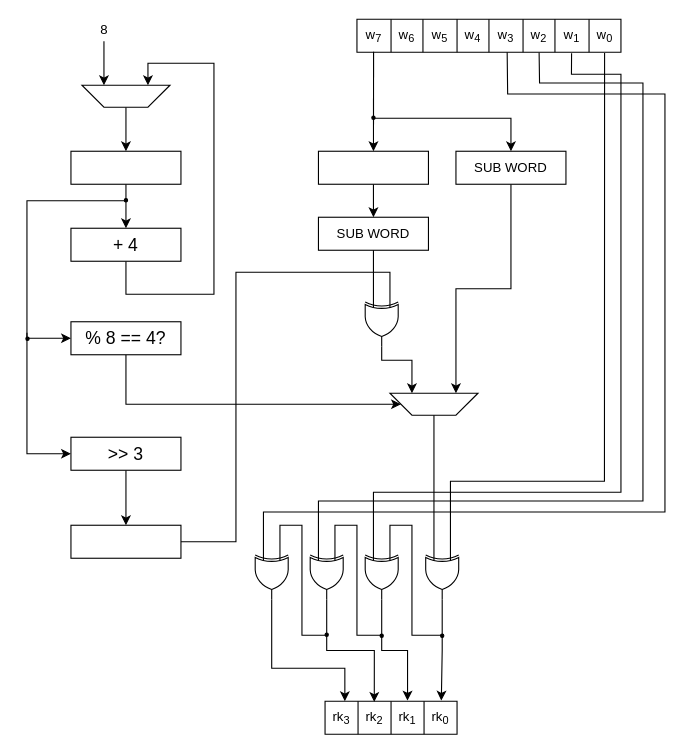
This 685x754 diagram has some shape labels left out. Here are the shapes that lost their labels. From the top down, the box of each, then its label:
(70, 150, 181, 184): REG
(317, 150, 428, 184): ROT WORD
(70, 524, 181, 558): Rcon
